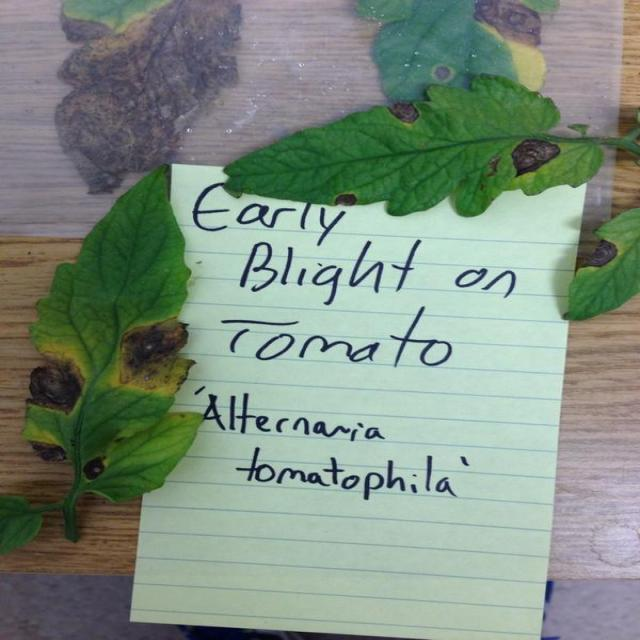Early Blight: (24, 165, 202, 501), (223, 73, 603, 217), (565, 208, 640, 321)
